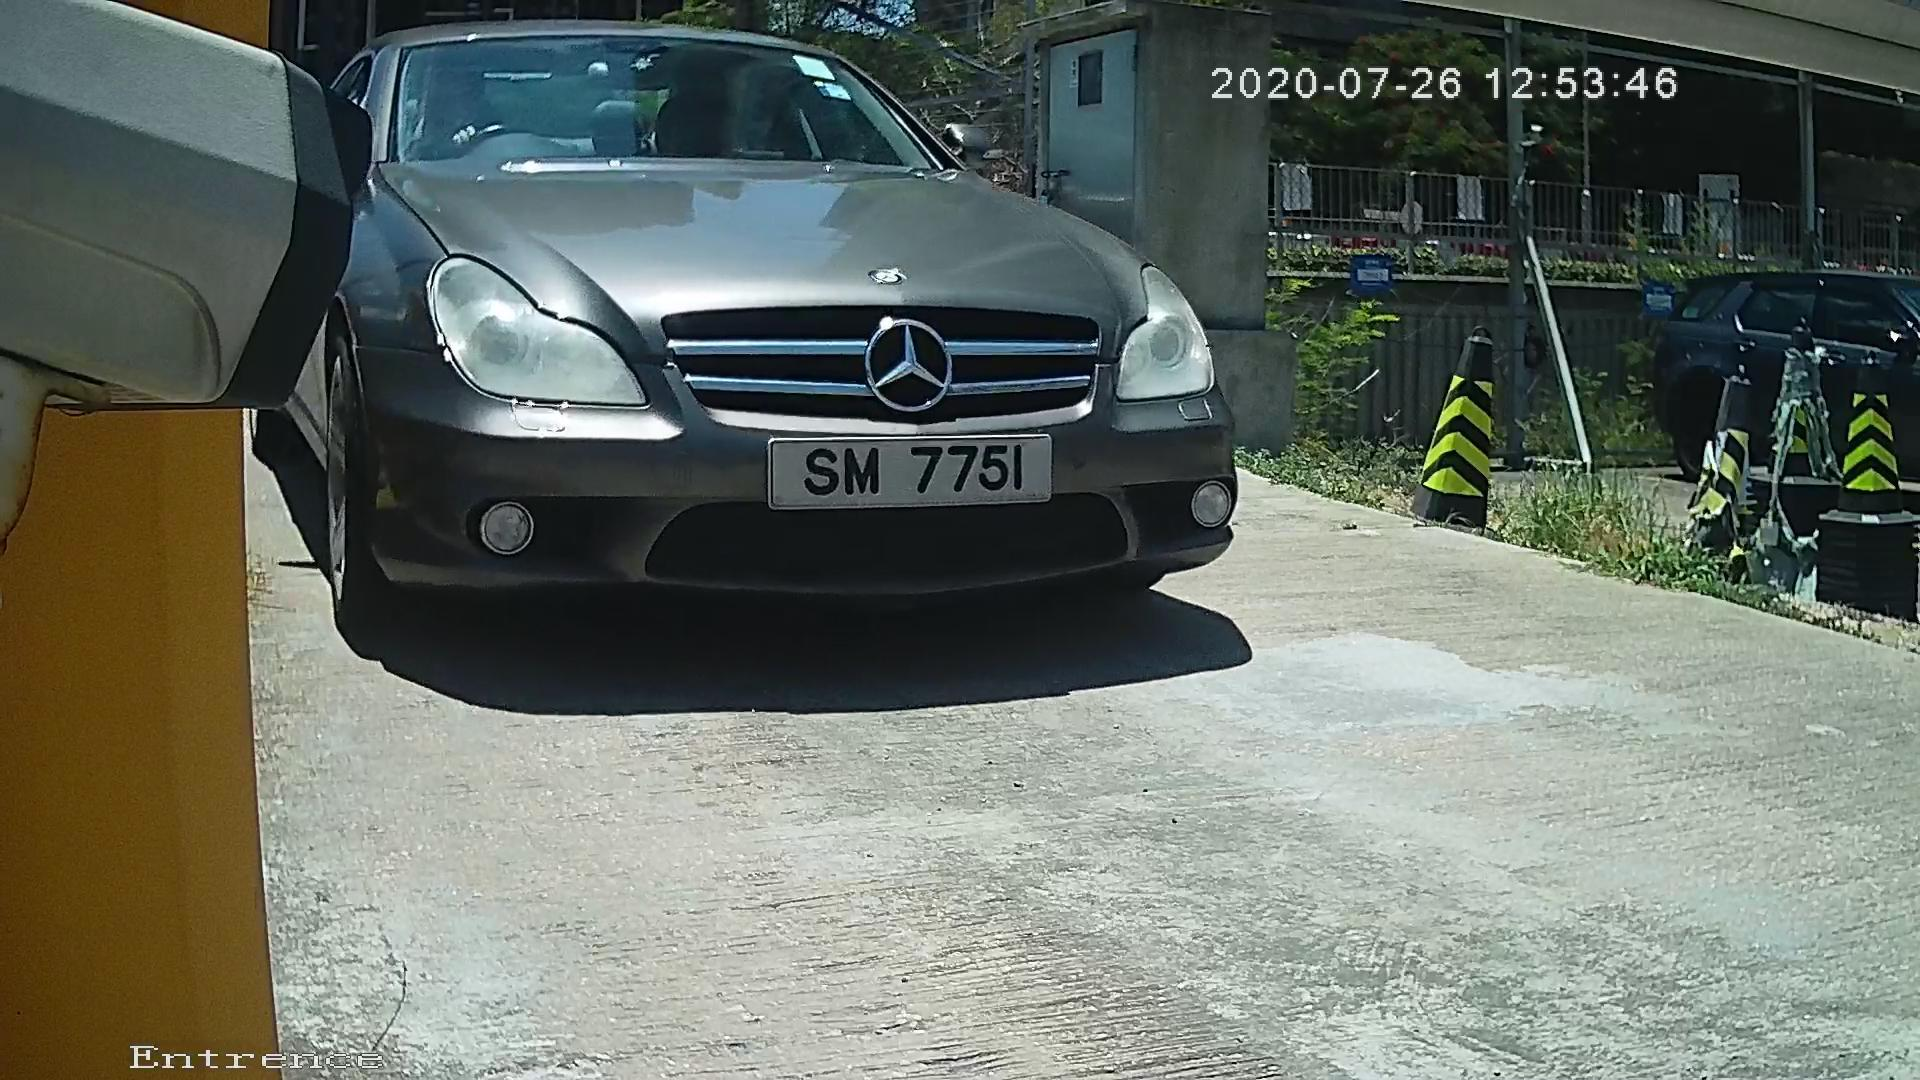privatecar: (232, 11, 1312, 695)
